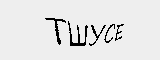Е: (112, 22, 125, 42)
С: (101, 22, 117, 45)
Т: (44, 16, 66, 46)
У: (88, 22, 105, 48)
Ш: (68, 21, 90, 49)
